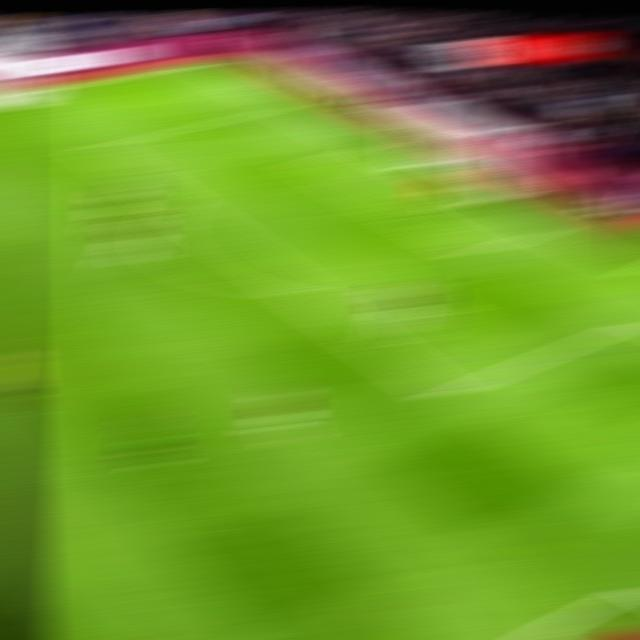bigarea_bottom_inner: (425, 381, 469, 406)
bigarea_top_inner: (75, 138, 115, 157)
bigarea_top_outter: (268, 97, 307, 113)
bottom_arc_area_intersection: (278, 279, 324, 302)
corner: (180, 57, 223, 71)
smallarea_bottom_inner: (455, 240, 496, 264)
smallarea_bottom_outter: (524, 219, 565, 239)
smallarea_top_inner: (289, 153, 329, 170)
smallarea_top_outter: (348, 136, 389, 154)
top_arc_area_intersection: (158, 195, 198, 212)
